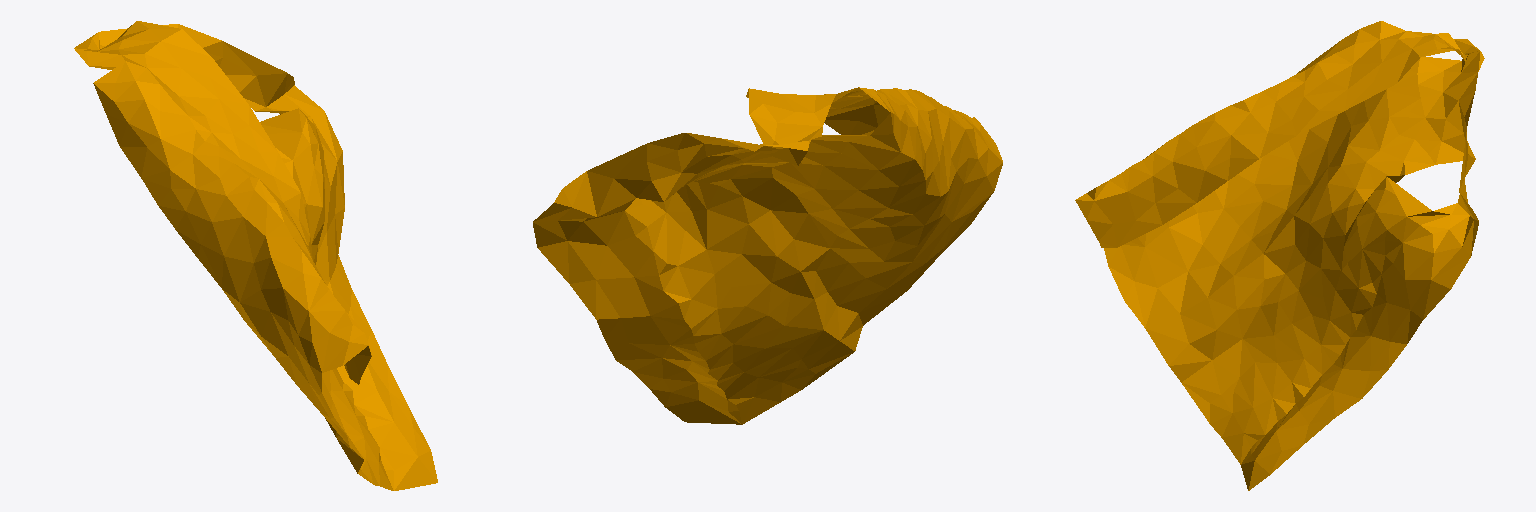
The robot description file, URDF, robot "init":
<?xml version='1.0' encoding='utf-8'?>
<robot name="init">
<link name="link_0"><inertial><mass value="1.0" /><origin rpy="0 0 0" xyz="0.000000 0.000000 0.000000" /><inertia ixx="1.0" ixy="0.0" ixz="0.0" iyy="1.0" iyz="0.0" izz="1.0" /></inertial><visual><origin rpy="0 0 0" xyz="0.000000 0.000000 0.000000" /><geometry><mesh filename="./clothHuman/cloth/1427.obj" /></geometry></visual><collision><origin rpy="0 0 0" xyz="0.000000 0.000000 0.000000" /><geometry><mesh filename="./clothHuman/cloth/1427.obj" /></geometry></collision></link></robot>

--- Render facts (derived) ---
The picture shows the robot from 3 angles, left to right: view 1: azimuth 30°, elevation 25°; view 2: azimuth 150°, elevation 25°; view 3: azimuth 270°, elevation 25°; orthographic projection.
Robot: init — 1 links, 0 joints (none); root link link_0; default pose: all joints at 0.
Visible links, largest first — view 1: link_0; view 2: link_0; view 3: link_0.
Boxes of the visible links, left/top/right/bottom form: link_0: left=74, top=21, right=437, bottom=490; link_0: left=533, top=87, right=1002, bottom=424; link_0: left=1075, top=21, right=1484, bottom=490.
Bounding box of the posed robot: 2.55 × 3.6 × 3.58 m (x, y, z).
Meshes: 1 distinct files referenced, 1 mesh visuals loaded (1 OBJ).